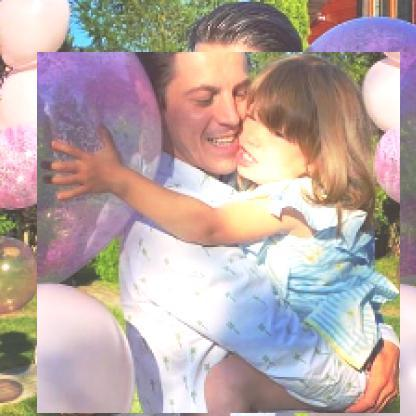child: (38, 53, 402, 415)
